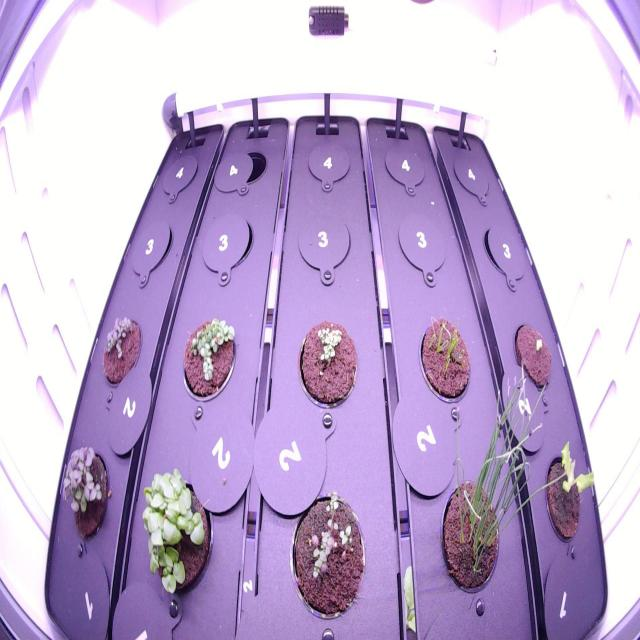empty_pod: (295, 209, 355, 287), (392, 207, 451, 286), (200, 206, 256, 283), (480, 215, 533, 290), (126, 212, 176, 281), (379, 134, 430, 197), (305, 130, 354, 192), (448, 146, 495, 208), (225, 138, 271, 200), (158, 144, 200, 206)
germination: (284, 475, 377, 625), (293, 312, 362, 418), (412, 308, 476, 410), (178, 309, 242, 409), (95, 306, 148, 394), (508, 311, 560, 397)
young: (537, 437, 603, 553)
